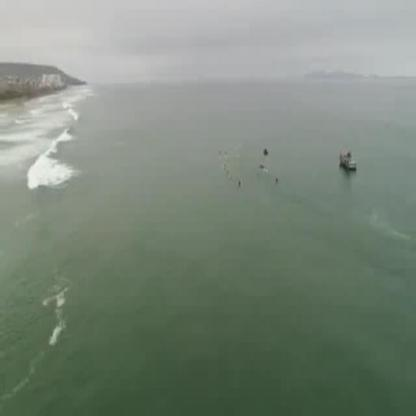Boat: (336, 145, 360, 176)
